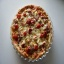pizza: (11, 5, 49, 60)
